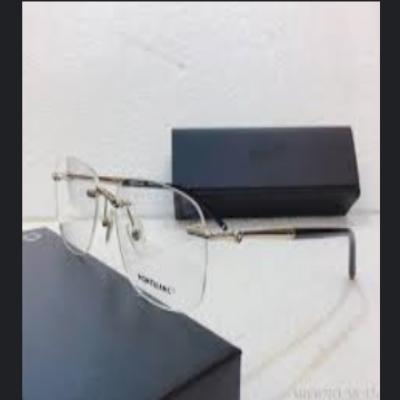glasses: (44, 149, 361, 327)
